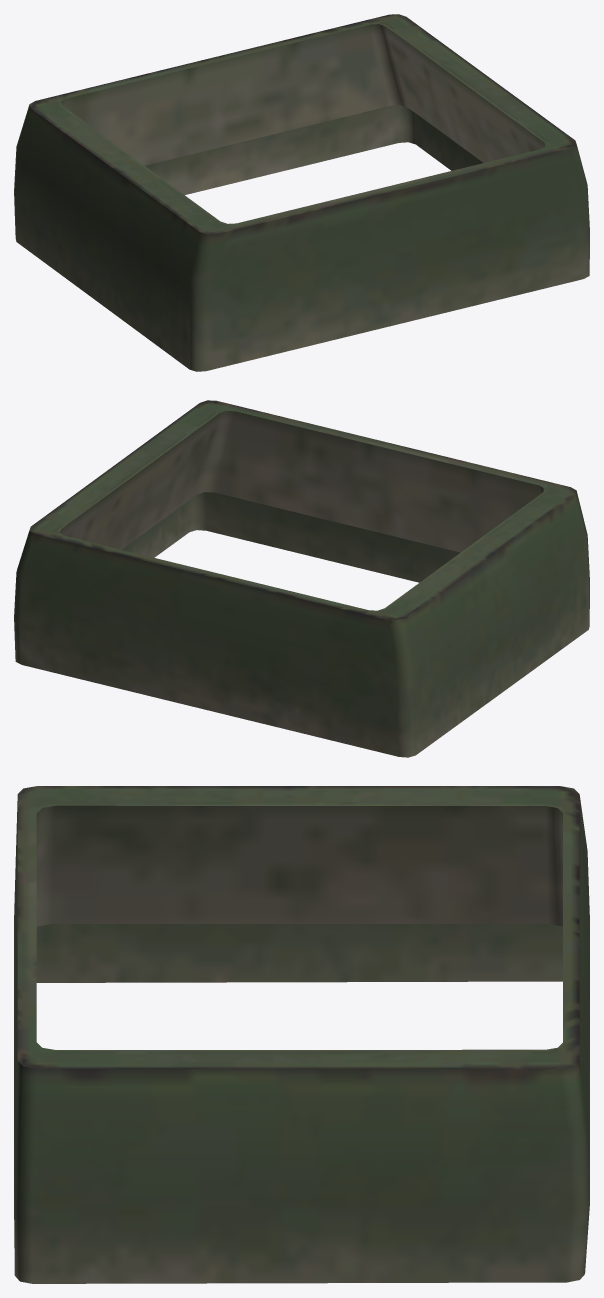
Rendered from Turret_01.glb.
3 views of the same model, one above another, from view 1: azimuth 30°, elevation 25°; view 2: azimuth 150°, elevation 25°; view 3: azimuth 270°, elevation 25° (orthographic). The views are drawn at different scales.
Parts seen in each view (by area): view 1: set_0_group_0; view 2: set_0_group_0; view 3: set_0_group_0.
Part boxes in pixels (x1,y1,x2,y2): set_0_group_0: [14, 14, 589, 371]; set_0_group_0: [14, 400, 589, 757]; set_0_group_0: [14, 786, 589, 1283].
Bounding box in the file's own units: 0.8721 × 0.2785 × 0.7054.
1 material, 1 textured.
